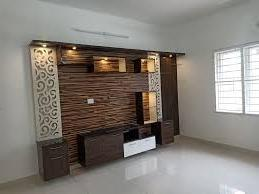light: (69, 25, 134, 44), (37, 39, 50, 51), (100, 57, 113, 64), (70, 45, 77, 53), (162, 55, 169, 62), (141, 56, 147, 63), (156, 53, 159, 57)
table: (74, 126, 180, 166), (37, 136, 70, 185)
